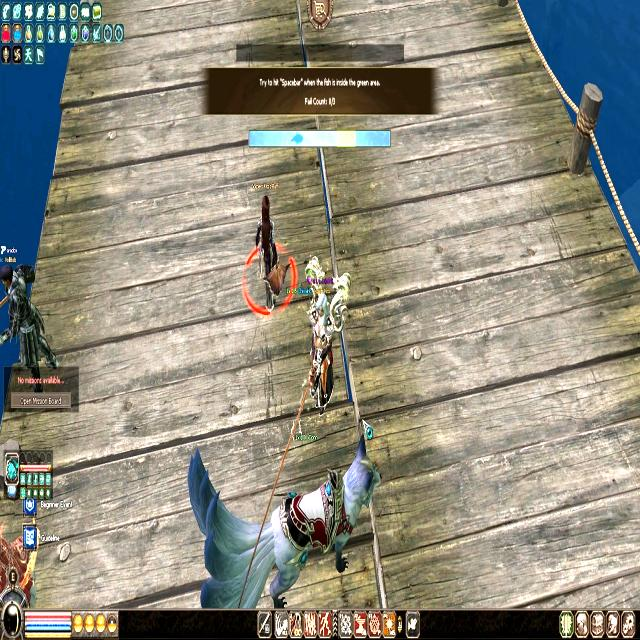fishes: (291, 131, 303, 145)
